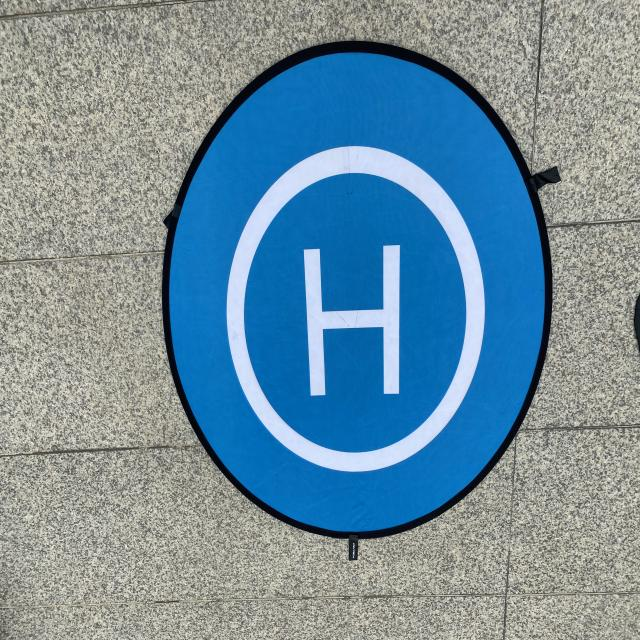helipad: (220, 134, 489, 482)
